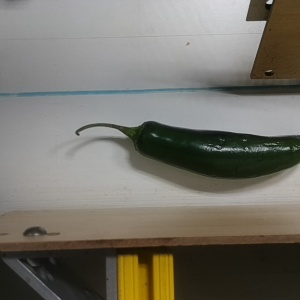Cut Point: (123, 116, 160, 156)
